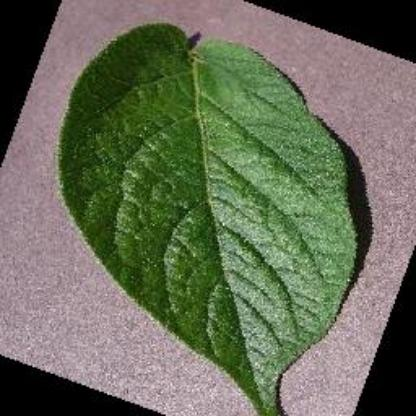Healthy-plant: (58, 26, 374, 380)
